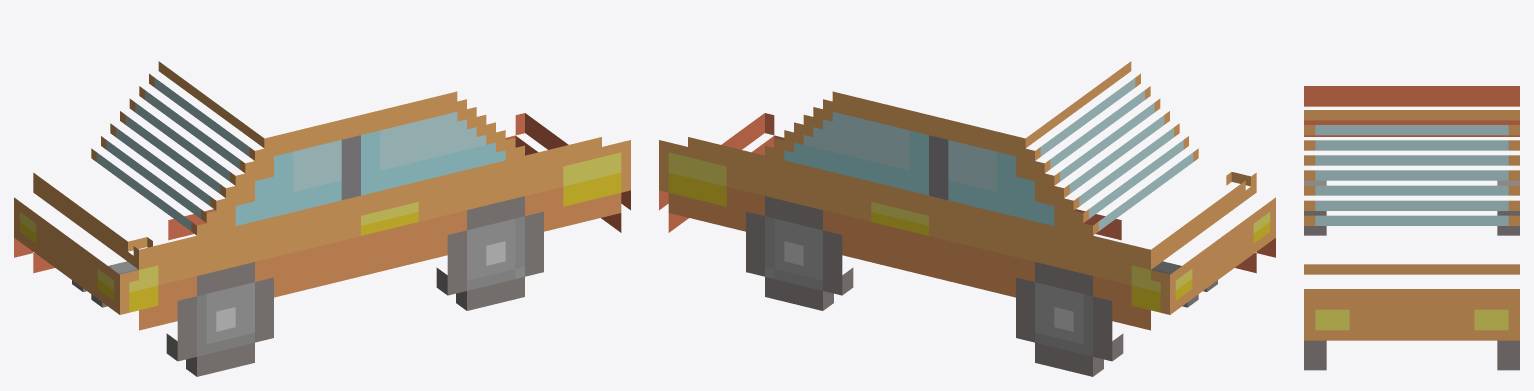
File: car_model.glb
3 renders of one model, left to right at view 1: azimuth 30°, elevation 25°; view 2: azimuth 150°, elevation 25°; view 3: azimuth 270°, elevation 25°, orthographic. The views are drawn at different scales.
Bounding box in the file's own units: 5.3 × 2.2 × 1.9.
